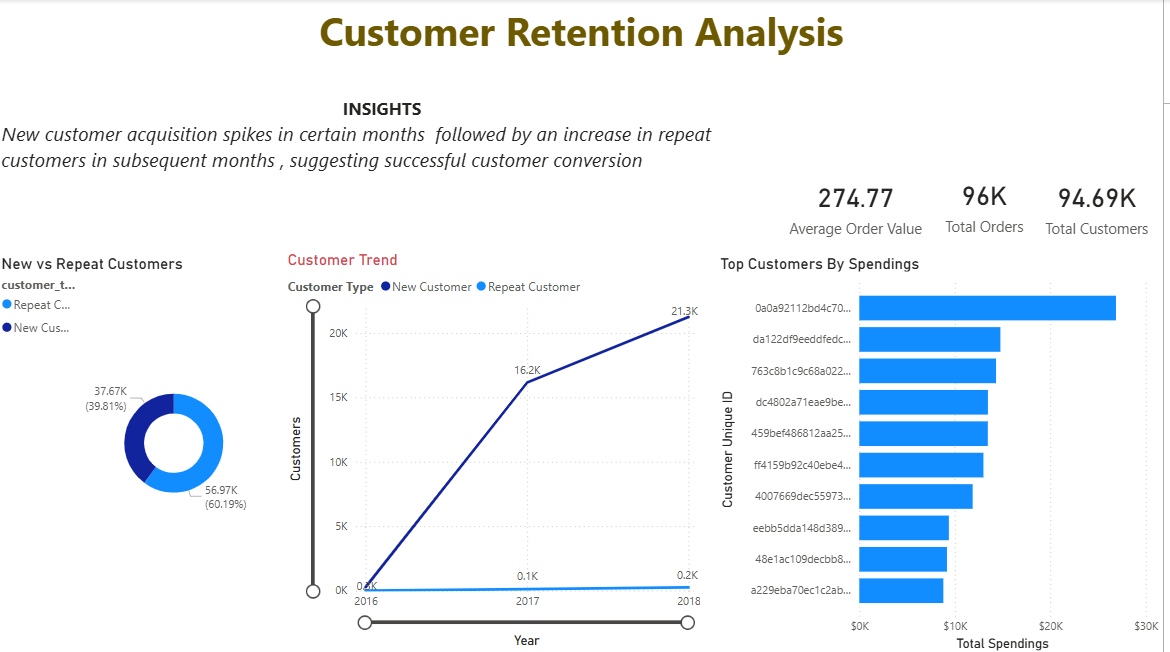

The dashboard page shown, as its layout file describes it:
{"tool":"powerbi","page":{"name":"CUSTOMER RETENTION","canvas":[1280,720],"ordinal":2},"visuals":[{"type":"card","fields":{"Values":["Avg(public bi_customer_retention_overview.avg_order_value)"]},"box":[861.8,175.6,161.9,104.3],"z":0},{"type":"card","fields":{"Values":["Sum(public bi_customer_retention_overview.total_orders)"]},"box":[1023.7,170.2,120.8,109.8],"z":1000},{"type":"card","fields":{"Values":["CountNonNull(public bi_customer_retention_overview.customer_unique_id)"]},"box":[1134.8,178.4,145.5,97.4],"z":2000},{"type":"lineChart","title":"Customer Trend","fields":{"Category":["public bi_customer_retention_overview.order_month.Variation.Date Hierarchy.Year","public bi_customer_retention_overview.order_month.Variation.Date Hierarchy.Quarter","public bi_customer_retention_overview.order_month.Variation.Date Hierarchy.Month","public bi_customer_retention_overview.order_month.Variation.Date Hierarchy.Day"],"Y":["CountNonNull(public bi_customer_retention_overview.customer_unique_id)"],"Series":["public bi_customer_retention_overview.customer_type"]},"box":[314.2,275.8,462.4,440.5],"z":3000},{"type":"donutChart","title":"New vs Repeat Customers","fields":{"Category":["public bi_customer_retention_overview.customer_type"],"Y":["Count(public bi_customer_retention_overview.customer_unique_id)"]},"box":[0,279.9,300.5,396.6],"z":4000},{"type":"barChart","title":"Top Customers By Spendings","fields":{"Category":["public bi_customer_retention_overview.customer_unique_id"],"Y":["Sum(public bi_customer_retention_overview.total_spend)"]},"box":[789,279.9,491.3,440.5],"z":5000},{"type":"textbox","box":[289.5,0,703.9,85.1],"z":6000},{"type":"textbox","box":[0,85.1,845.3,185.2],"z":7000}]}

Visuals, with their boxes in screenshot pixels (x1, y1, x2, y2), scaled from the page's 1280x720 canvas onto the 1170x652 screenshot:
card - Avg(public bi_customer_retention_overview.avg_order_value): (788, 159, 936, 253)
card - Sum(public bi_customer_retention_overview.total_orders): (936, 154, 1046, 254)
card - CountNonNull(public bi_customer_retention_overview.customer_unique_id): (1037, 162, 1169, 250)
"Customer Trend" lineChart: (287, 250, 710, 649)
"New vs Repeat Customers" donutChart: (0, 253, 275, 613)
"Top Customers By Spendings" barChart: (721, 253, 1169, 651)
textbox: (265, 0, 908, 77)
textbox: (0, 77, 773, 245)
